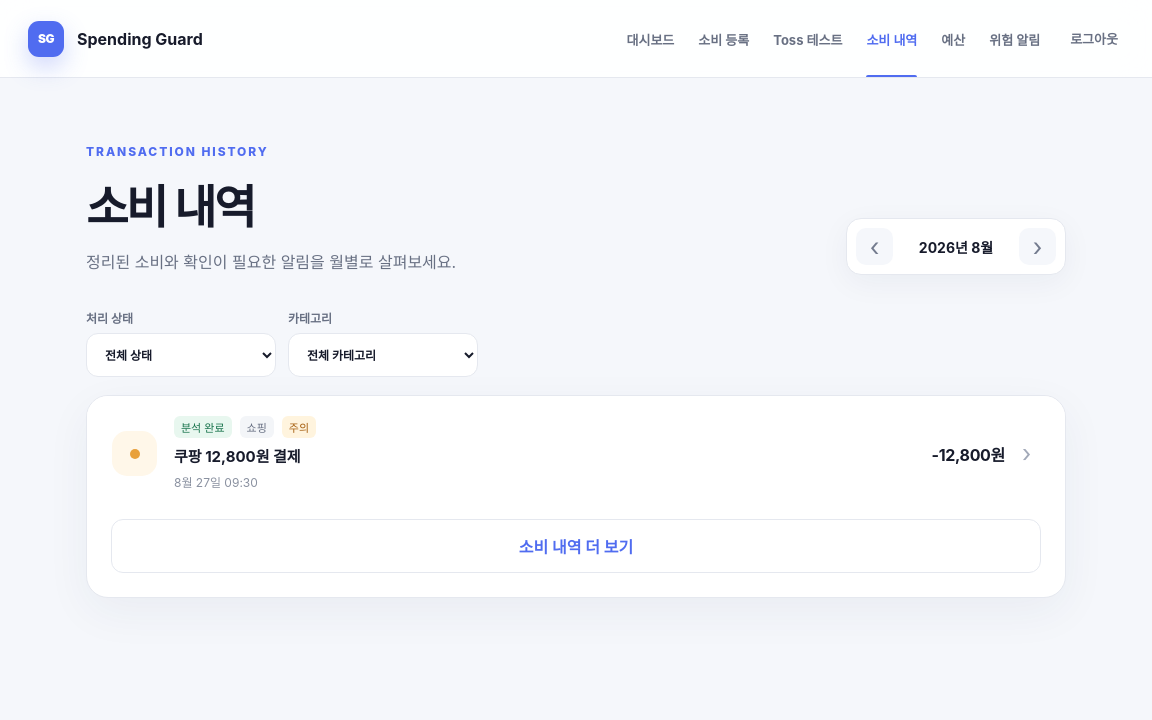
Test case: TransactionHistoryView › ignores a late next-page response after filters change
Expected: the text "쿠팡 12,800원 결제" is shown, [174,447,301,466]
Click the button "소비 내역 더 보기". click: click(576, 546)
box: [111,519,1041,573]
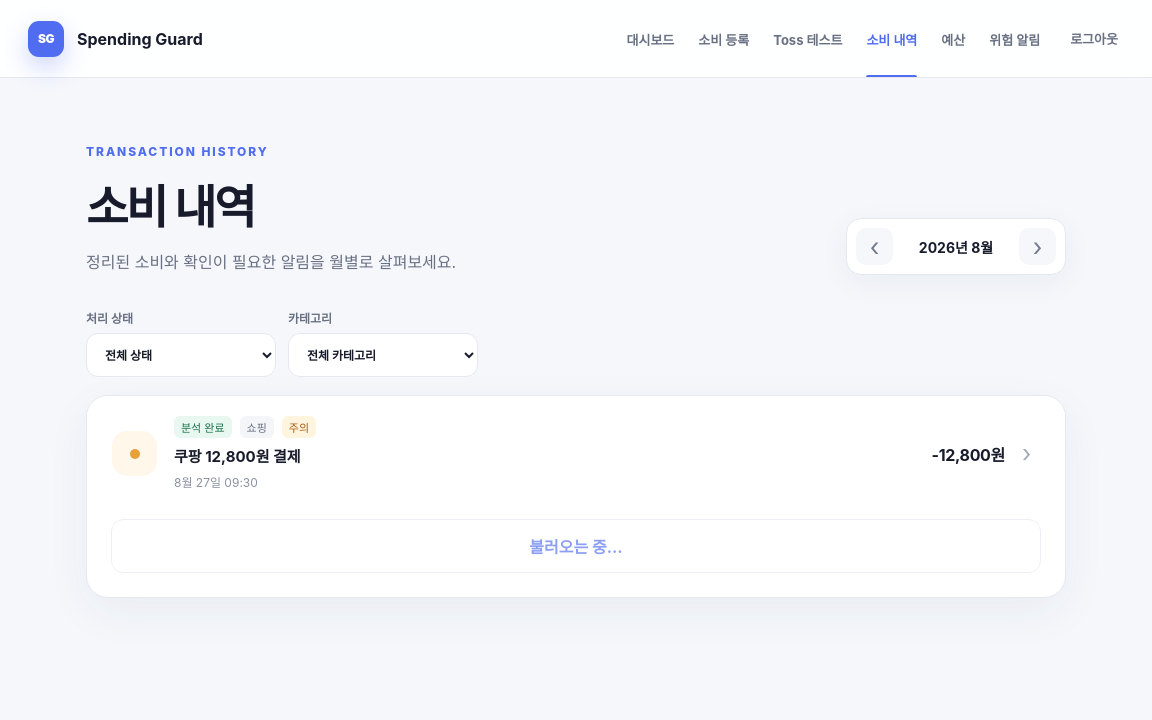
Select "쇼핑" in the dropdown labelled "카테고리". click: (383, 355)
box: [288,333,478,377]
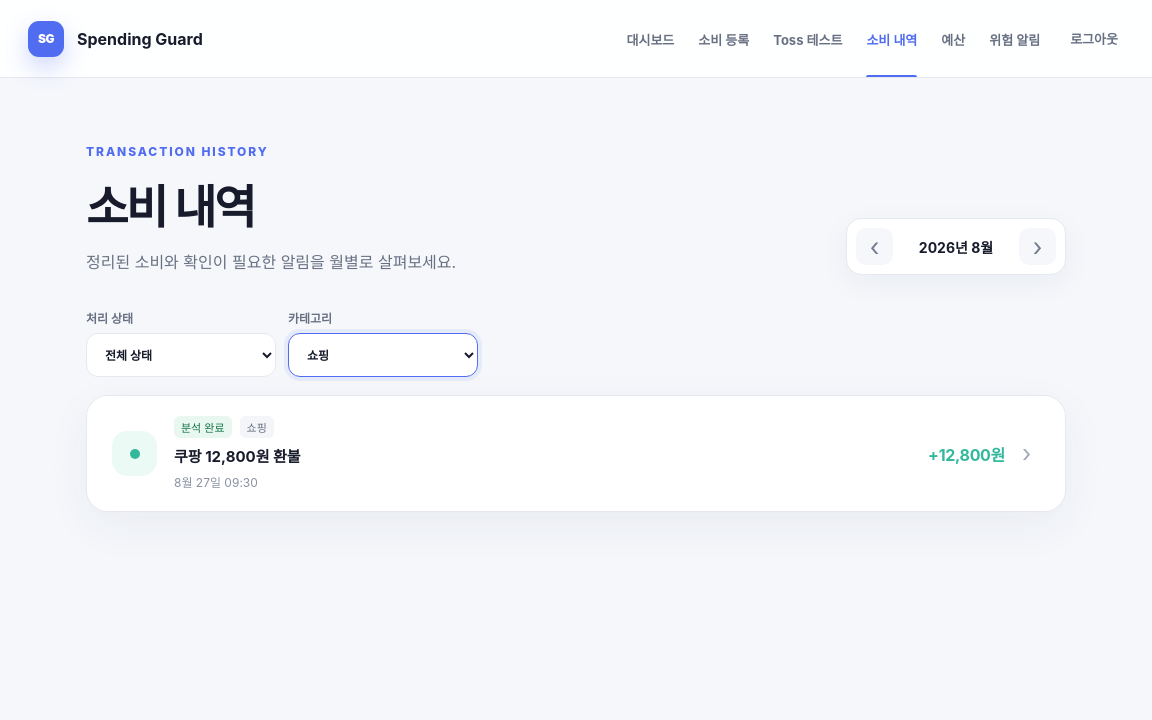
Expected: the text "쿠팡 12,800원 환불" is shown, [174,447,301,466]
